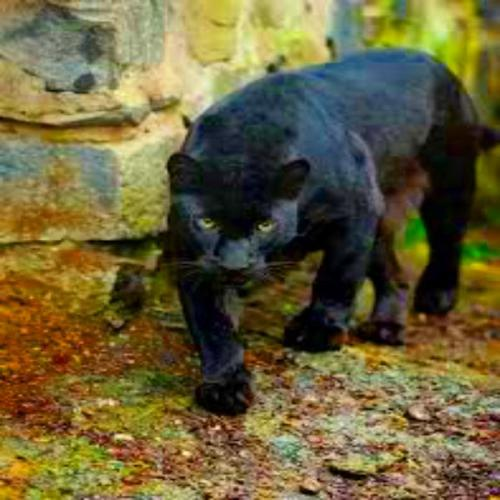panther-endangered: (168, 50, 481, 419)
